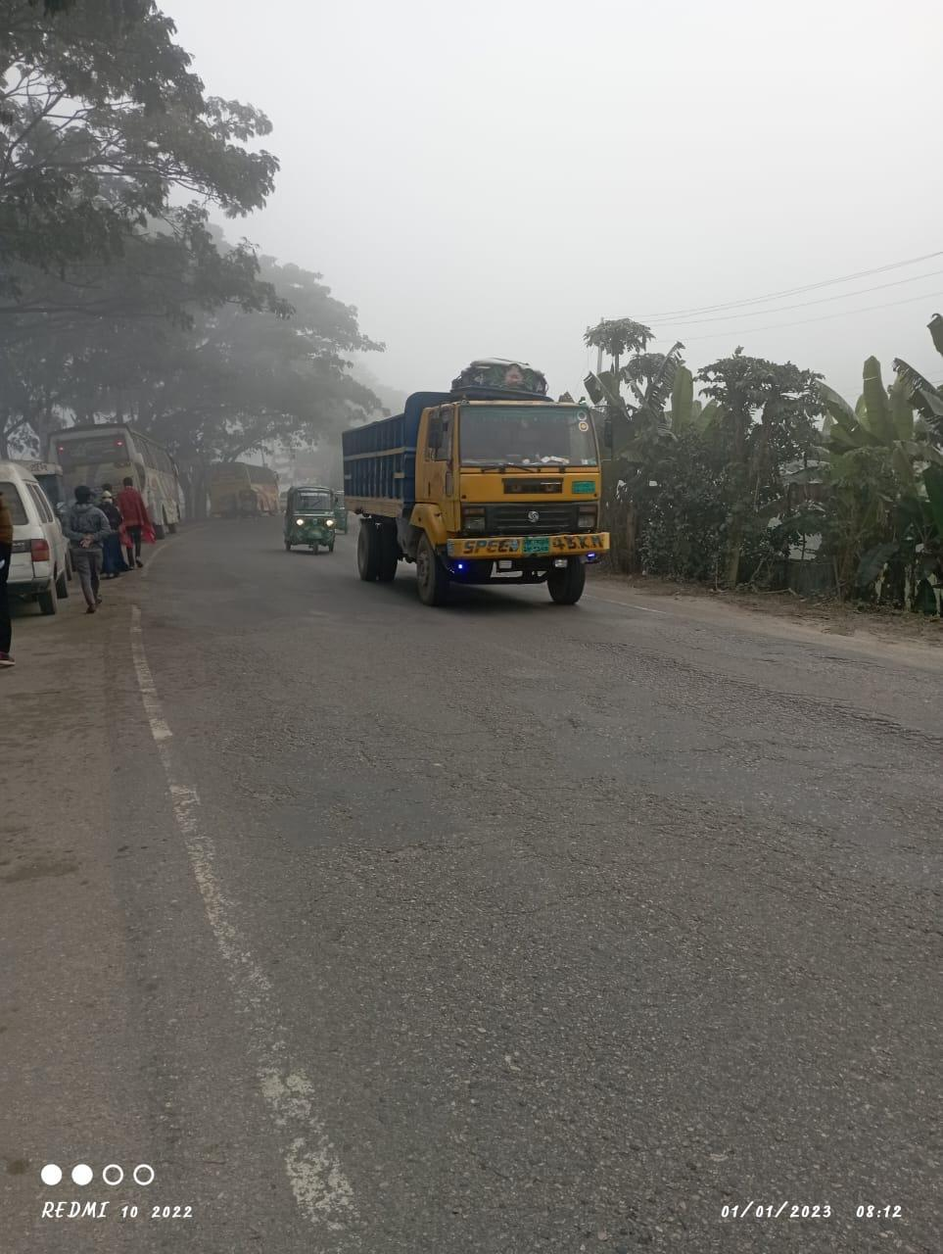Bus: (44, 412, 196, 540), (212, 444, 279, 534)
Car: (4, 455, 79, 626)
Truck: (331, 357, 623, 618)
